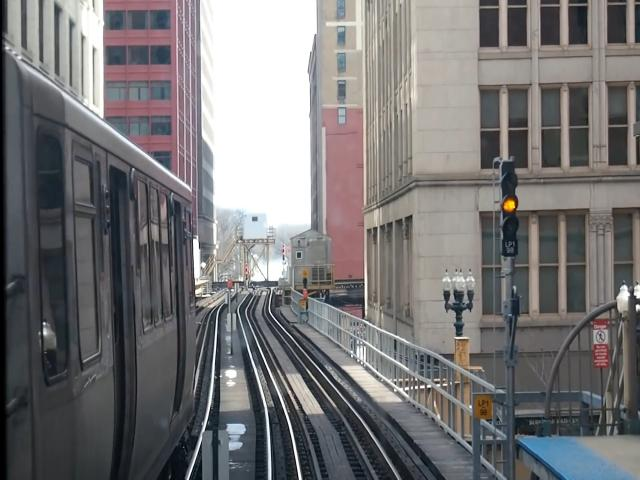signal light: (493, 156, 522, 258), (247, 263, 250, 281), (284, 245, 287, 262)
